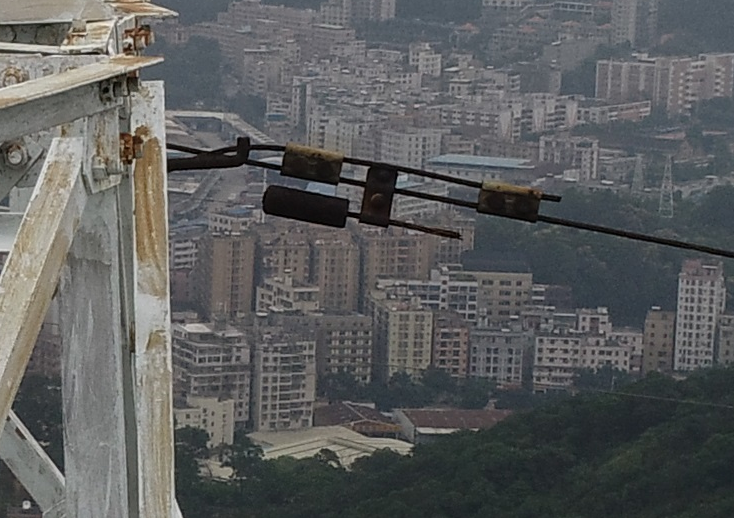damper_defect: (257, 159, 464, 243)
